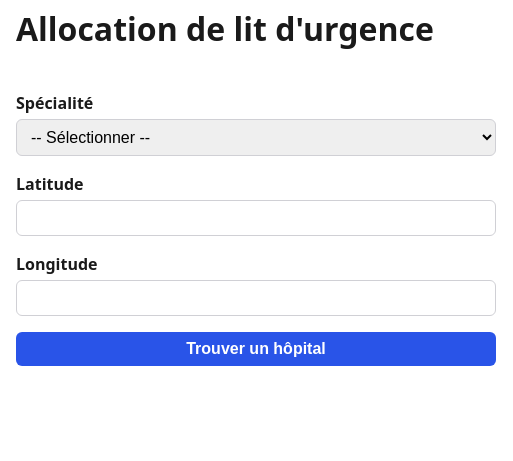
Test case: BedAllocationForm › affiche un message clair quand aucun hôpital ne correspond (404)
Select "Cardiologie" in the dropdown labelled "Spécialité" at [256, 137], box [16, 119, 496, 156]
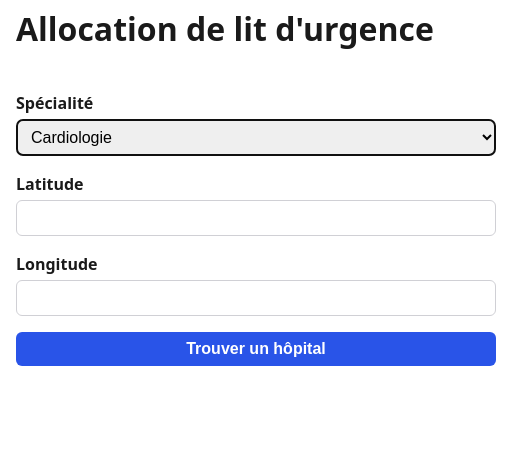
Type "48.8566" into the number field labelled "Latitude" at [256, 218], box [16, 200, 496, 236]
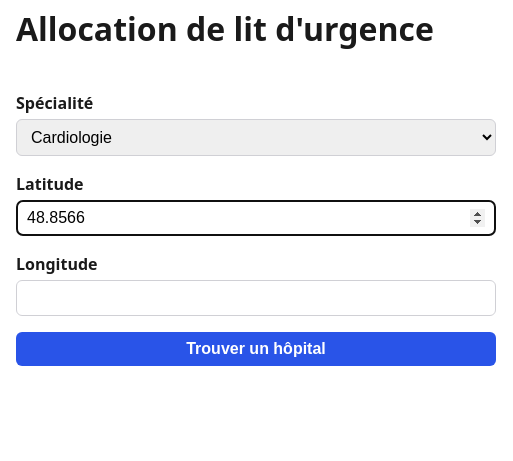
Type "2.3522" into the number field labelled "Longitude" at [256, 298], box [16, 280, 496, 316]
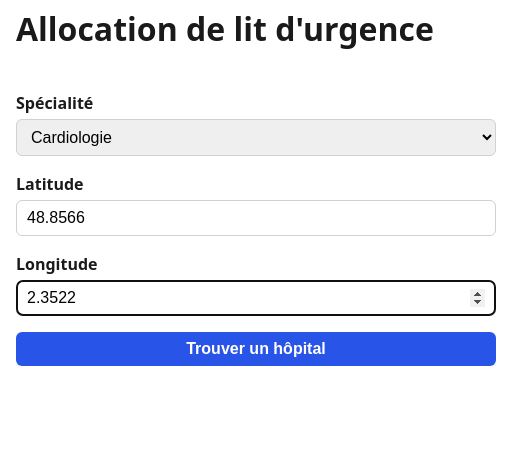
Click the button "Trouver un hôpital" at [256, 349], box [16, 332, 496, 366]
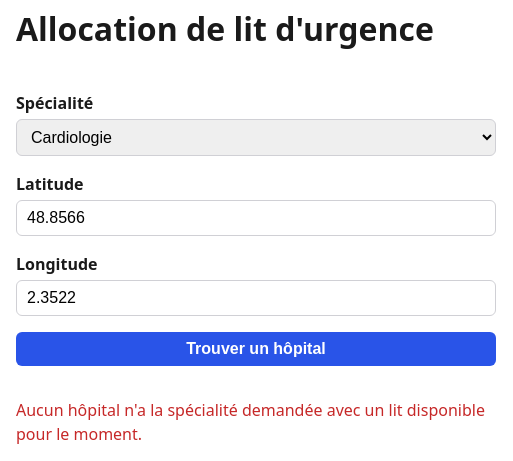
Result: the message shows "Aucun hôpital" at [16, 399, 485, 445]
